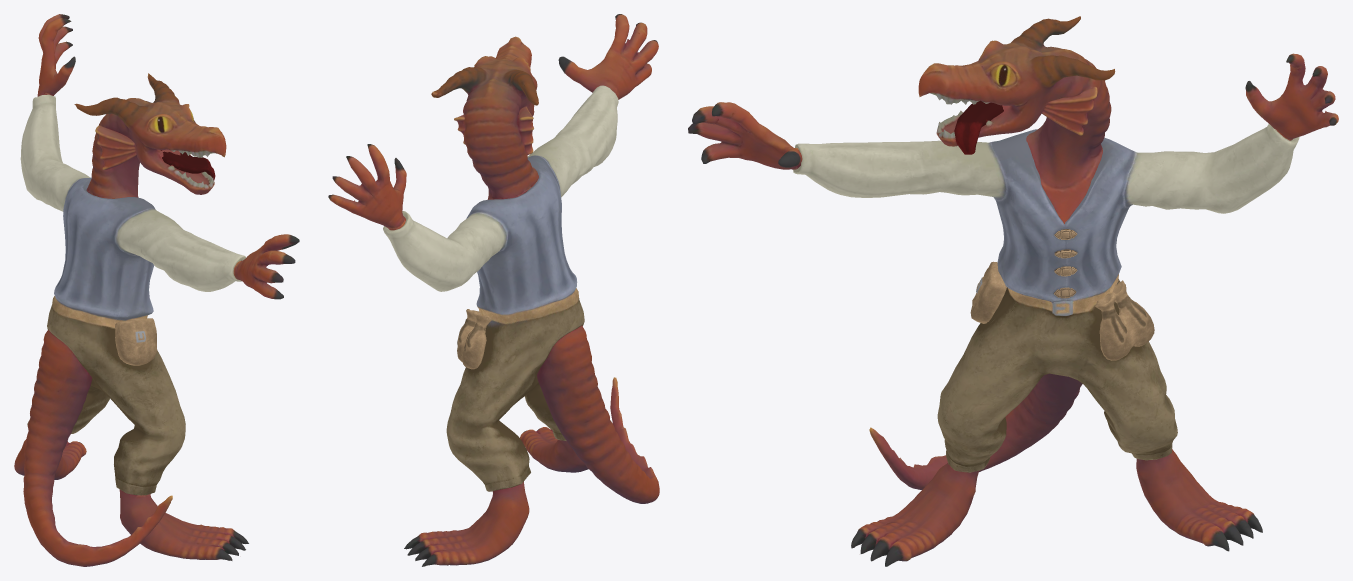
Rendered from MZ4250 - Kobold Sorcerer.glb.
3 views of the same model, side by side, from view 1: azimuth 30°, elevation 25°; view 2: azimuth 150°, elevation 25°; view 3: azimuth 270°, elevation 25° (orthographic). The views are drawn at different scales.
Parts seen in each view (by area): view 1: Buckle 2.002; view 2: Buckle 2.002; view 3: Buckle 2.002.
Part boxes in pixels (x1,y1,x2,y2): Buckle 2.002: (14, 14, 299, 566); Buckle 2.002: (328, 14, 659, 566); Buckle 2.002: (688, 16, 1338, 566).
Size of the model in its own units: 0.6698 by 1.53 by 1.77.
5 materials, 5 textured.
